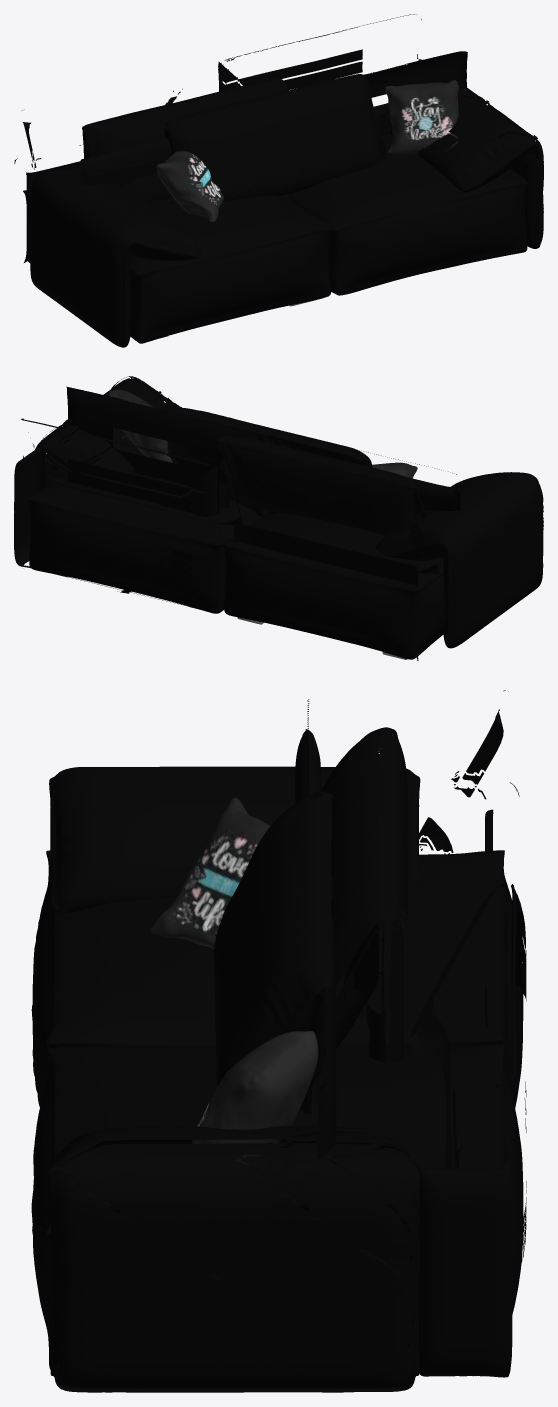
File: sofa_1_processed.glb
3 views of the same model, one above another, from view 1: azimuth 30°, elevation 25°; view 2: azimuth 150°, elevation 25°; view 3: azimuth 270°, elevation 25° (orthographic). The views are drawn at different scales.
Parts seen in each view (by area): view 1: leather-sofa; view 2: leather-sofa; view 3: leather-sofa.
Boxes of the visible parts, x1,y1,x2,y2 form: leather-sofa: (14, 14, 543, 347); leather-sofa: (14, 376, 543, 660); leather-sofa: (31, 690, 526, 1392).
Bounding box in the file's own units: 65291 × 22827 × 32582.
Materials: 1 (1 with a texture image).
